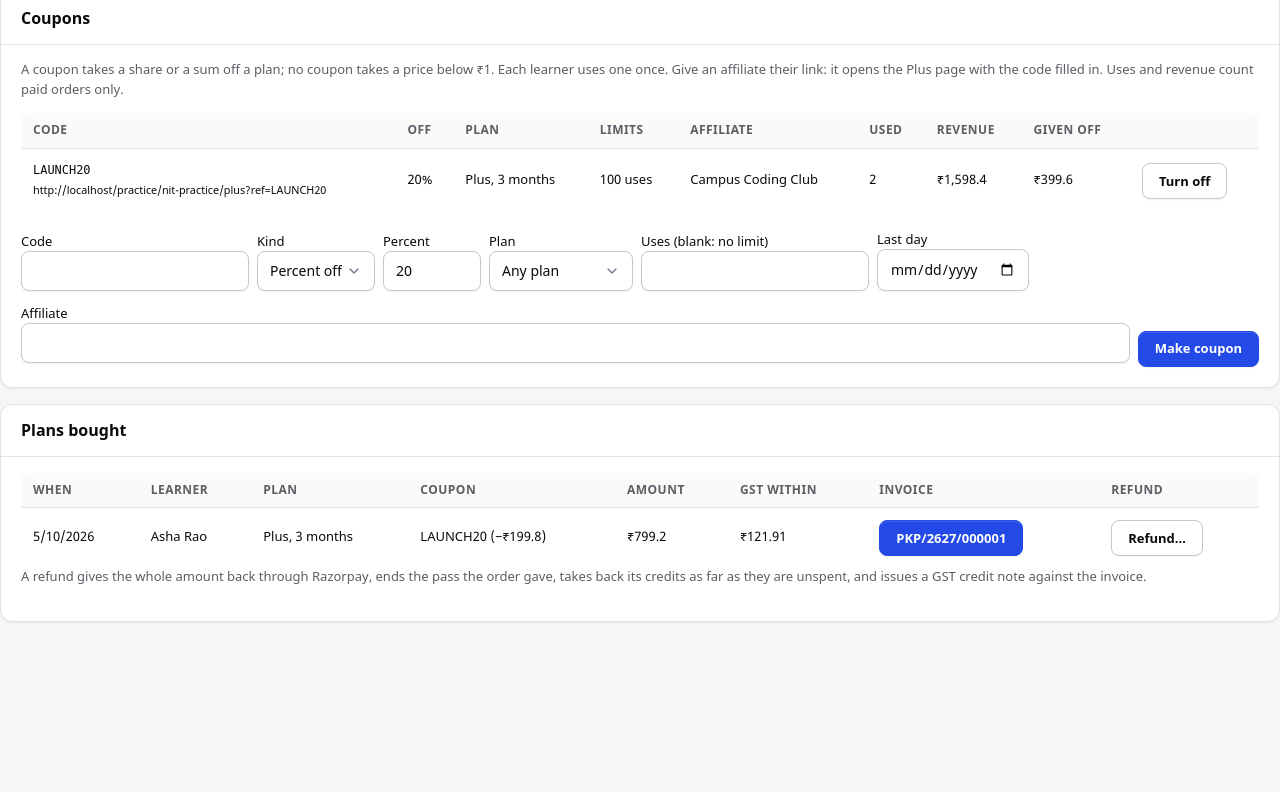
Test: coupons and sales › lists paid orders with their coupon, and opens an invoice's taxes
The image size is (1280, 792).
Expected: the text "LAUNCH20 (−₹199.8)" is shown, left=408, top=508, right=615, bottom=568
Step 1. Click the button "PKP/2627/000001" → x=951, y=538, box left=879, top=520, right=1023, bottom=556
(page scrolled)
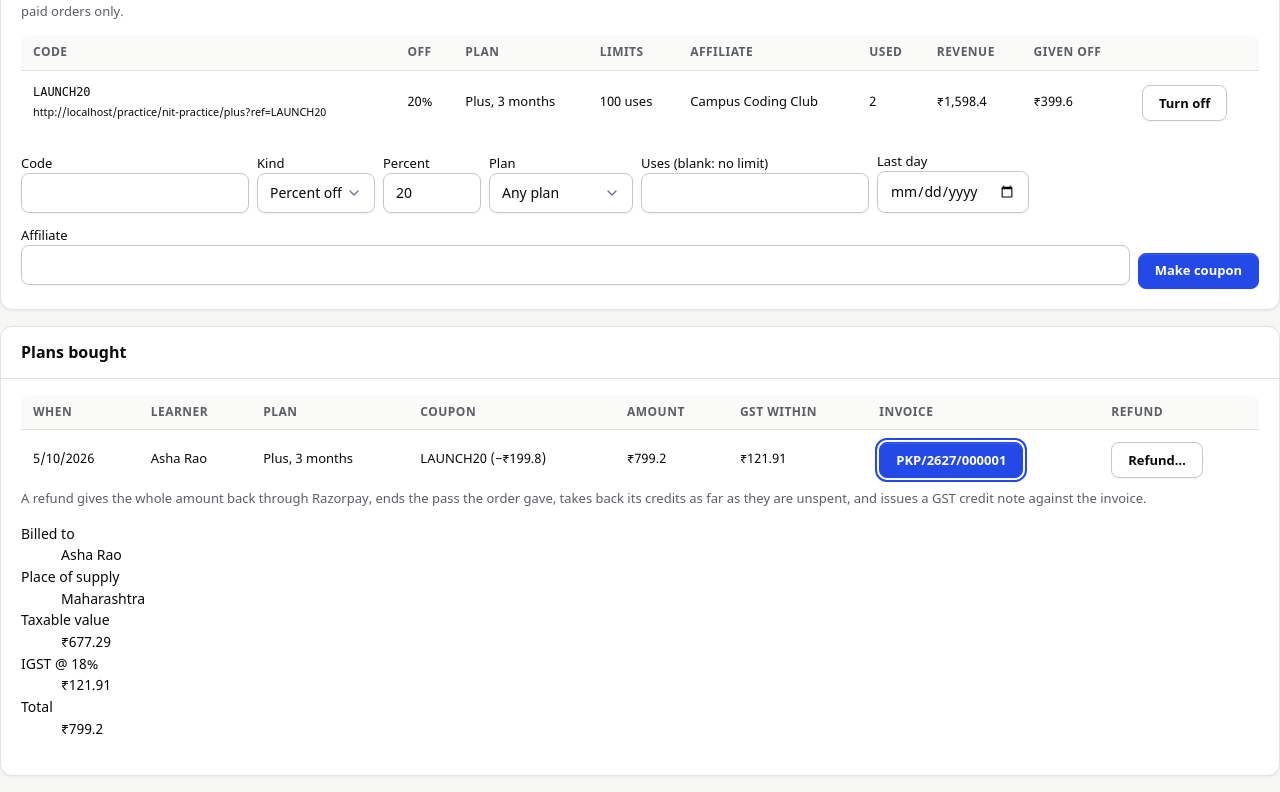
Now the element named "Invoice PKP/2627/000001" shows "IGST @ 18%", box left=21, top=656, right=98, bottom=675
Now the element named "Invoice PKP/2627/000001" shows "Maharashtra", box left=61, top=591, right=145, bottom=610
